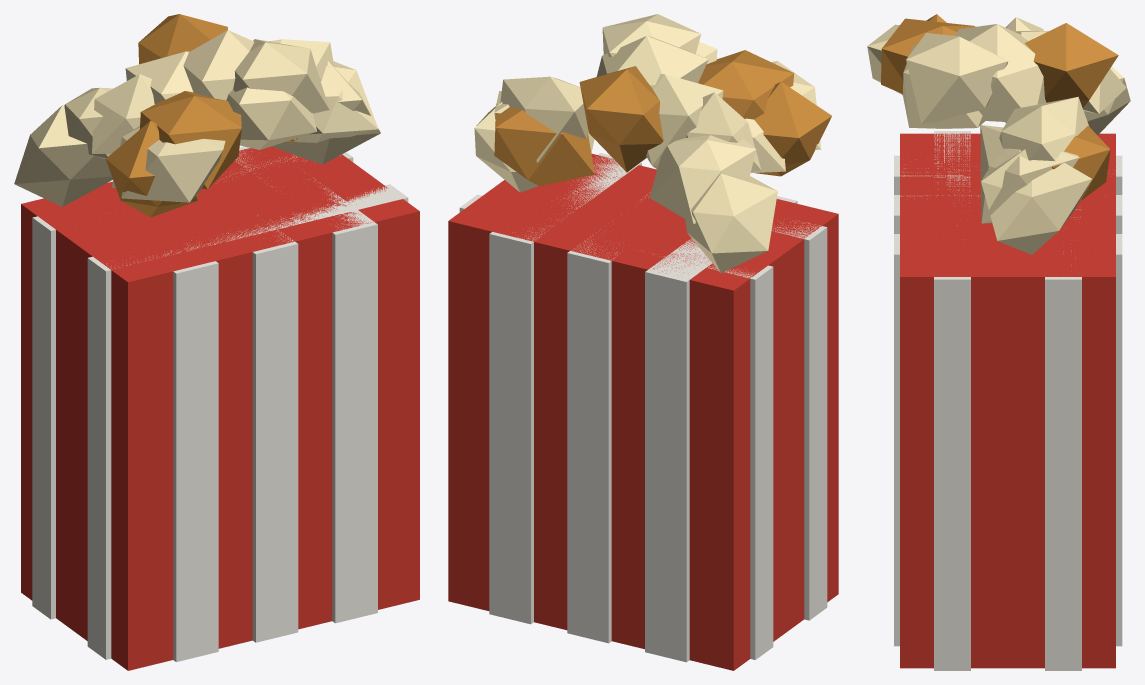
The model's file is pipoca_saquinho.glb.
3 views of the same model, side by side, from view 1: azimuth 30°, elevation 25°; view 2: azimuth 150°, elevation 25°; view 3: azimuth 270°, elevation 25° (orthographic). The views are drawn at different scales.
Parts seen in each view (by area): view 1: pipoca_saquinho; view 2: pipoca_saquinho; view 3: pipoca_saquinho.
Part boxes in pixels (x1,y1,x2,y2): pipoca_saquinho: [14, 14, 419, 670]; pipoca_saquinho: [448, 14, 838, 670]; pipoca_saquinho: [867, 14, 1130, 670].
Size of the model in its own units: 0.1215 by 0.2052 by 0.0854.
